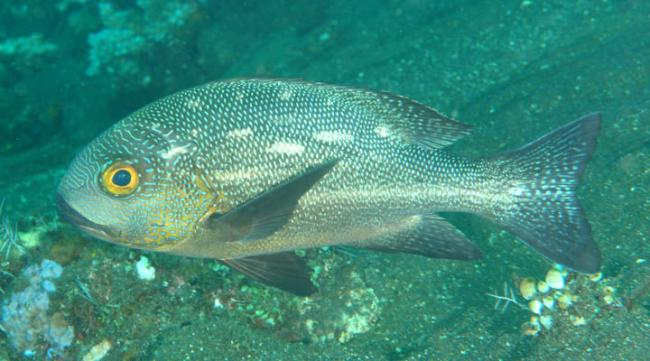fish: (54, 77, 604, 299)
